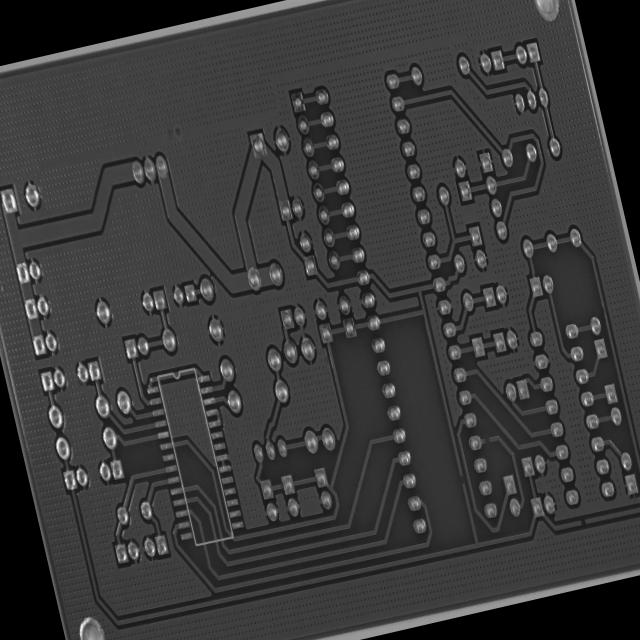open_circuit: (457, 470, 467, 488), (577, 514, 588, 528), (482, 432, 492, 446)
